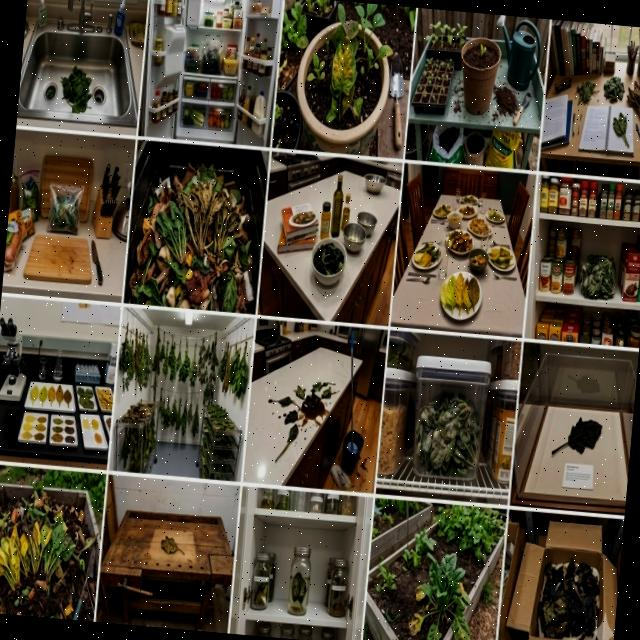rotten spinach: (262, 372, 338, 472), (409, 386, 486, 479), (534, 559, 602, 640), (175, 184, 223, 255), (554, 401, 604, 465), (210, 182, 247, 258), (54, 57, 95, 118), (42, 182, 84, 236), (580, 248, 618, 302), (198, 334, 222, 406), (310, 239, 346, 282), (150, 528, 190, 563), (118, 396, 154, 429), (18, 518, 40, 572), (46, 376, 76, 414), (455, 274, 481, 316), (289, 568, 310, 614), (623, 76, 640, 128), (49, 417, 76, 445), (130, 330, 144, 380), (201, 44, 223, 74), (195, 336, 207, 386)
spinach: (412, 549, 477, 640), (432, 504, 504, 566), (322, 33, 362, 126), (153, 196, 190, 262), (397, 516, 439, 571), (44, 520, 76, 586), (228, 340, 252, 404), (376, 564, 401, 596)
